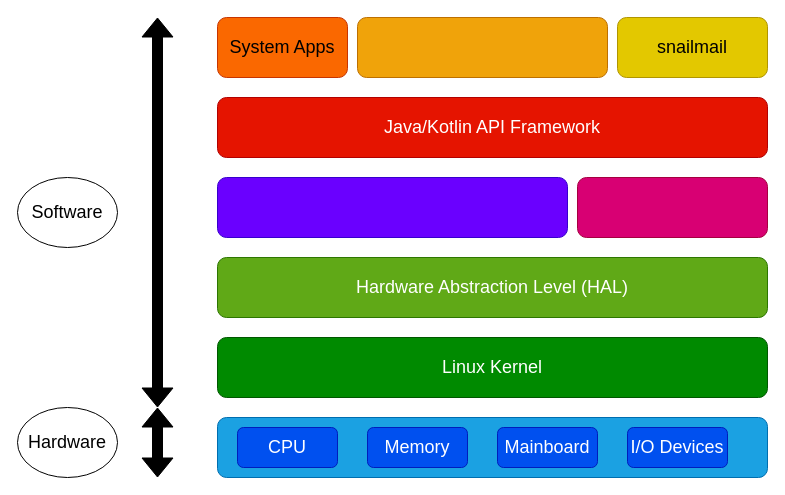
The diagram is 785 pixels wide and 495 high, and some of its shapes have lost their labels. Here are the shapes that lost their labels. From the top down, the box of each, then its label:
(356, 16, 608, 78): Installed Apps
(216, 176, 568, 238): Native C/C++ Libraries
(576, 176, 768, 238): Android Runtime
